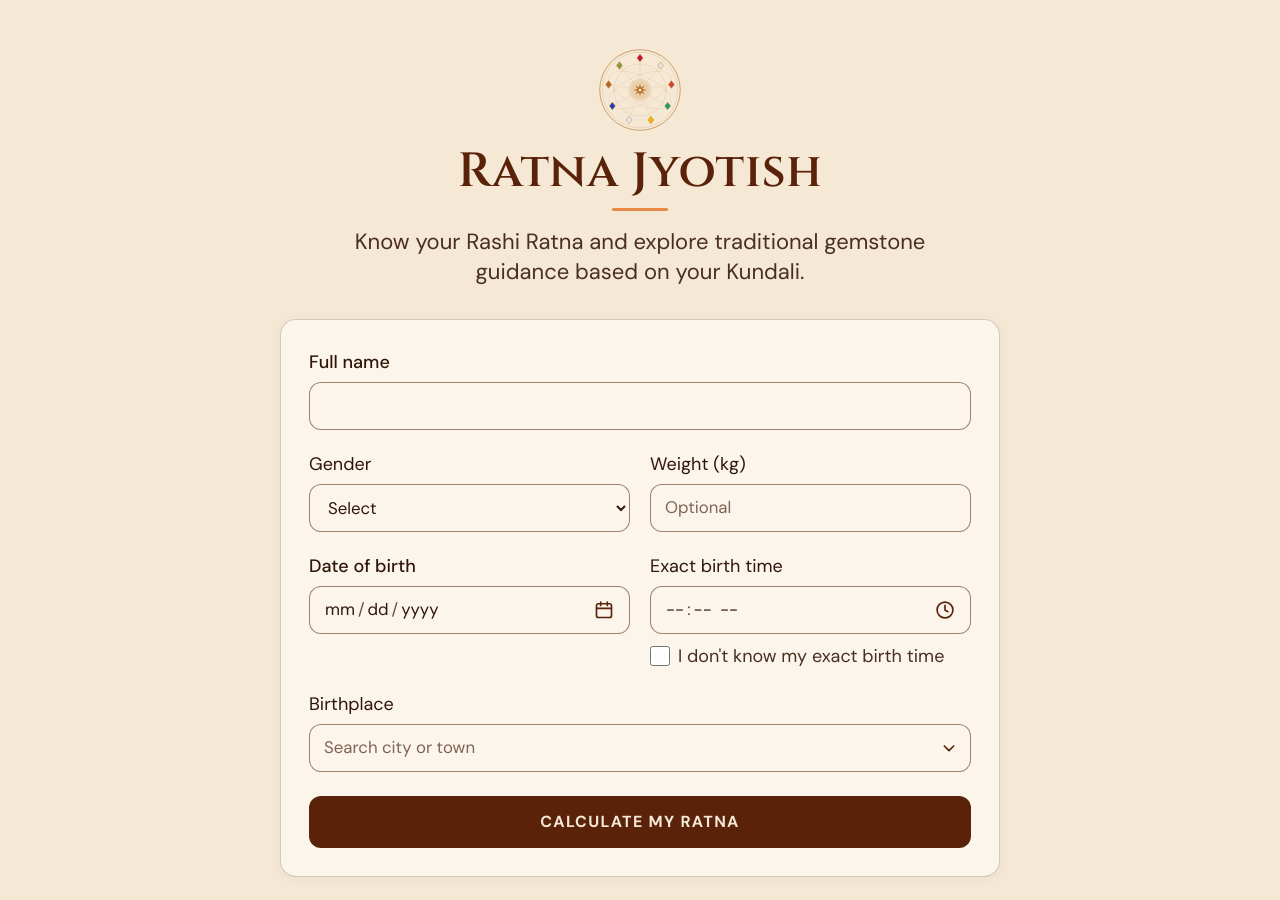
a real feature: Ratna Jyotish › signed out: Generate opens the gate, nothing is sent, every field is kept; after sign-in it runs once
In the field labelled "Full name": (640, 406) [309,382,971,430], type "Asha Verma"
Select "Female" in the dropdown labelled "Gender": (470, 508) [309,484,630,532]
In the number field labelled "Weight (kg)": (810, 508) [650,484,971,532], type "58"
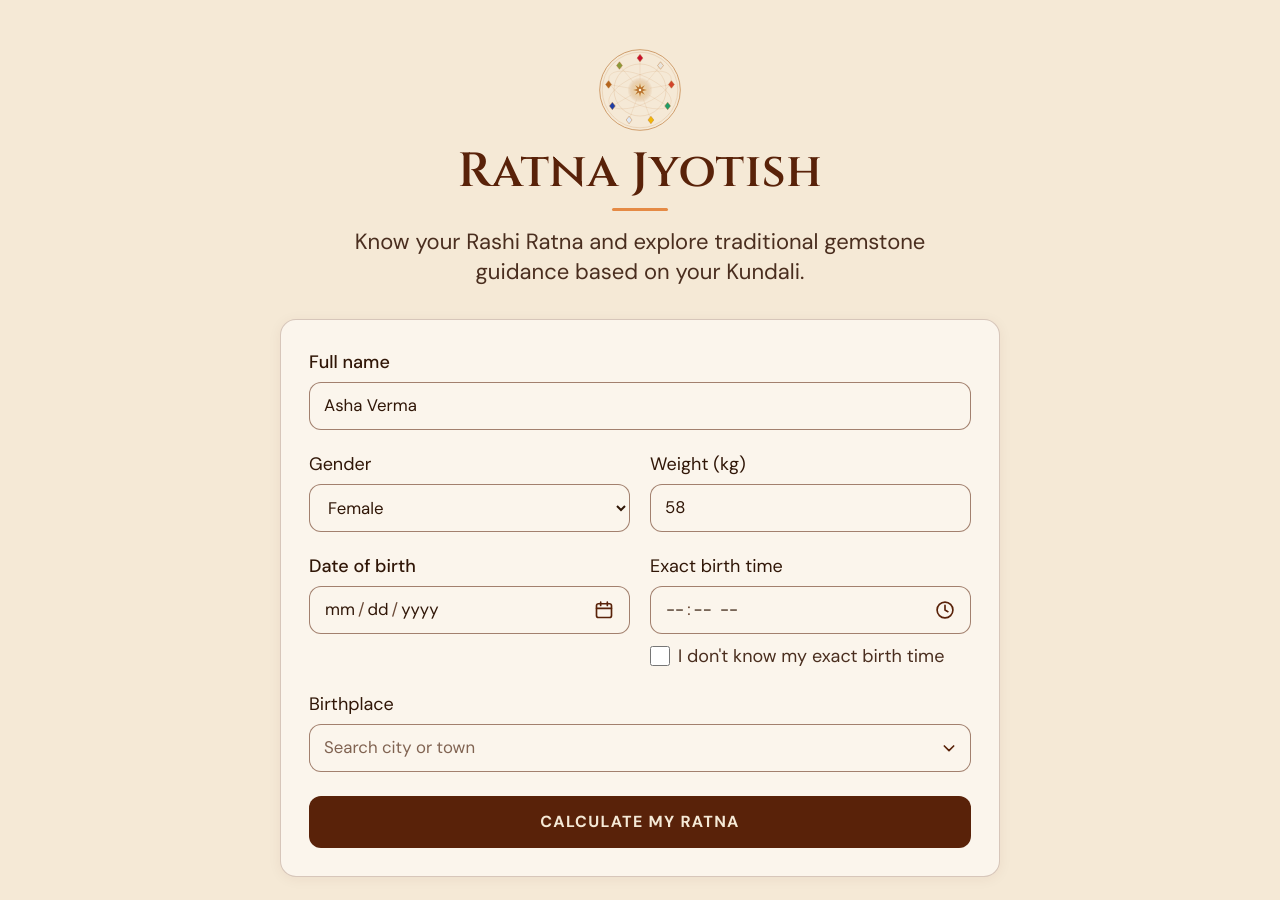
In the date field labelled "Date of birth": (470, 610) [309,586,630,634], type "1990-05-05"
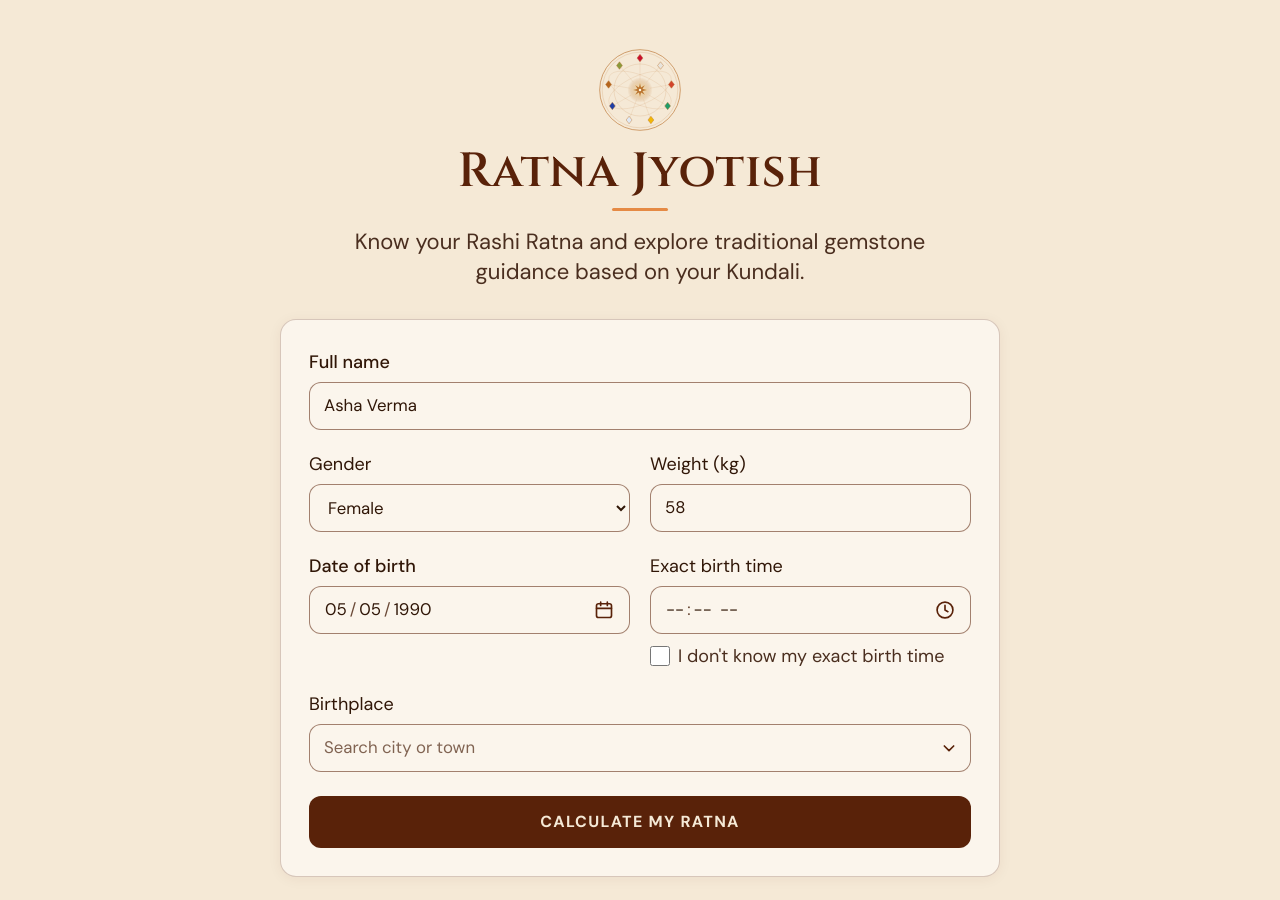
In the time field labelled "Exact birth time": (810, 610) [650,586,971,634], type "10:00"
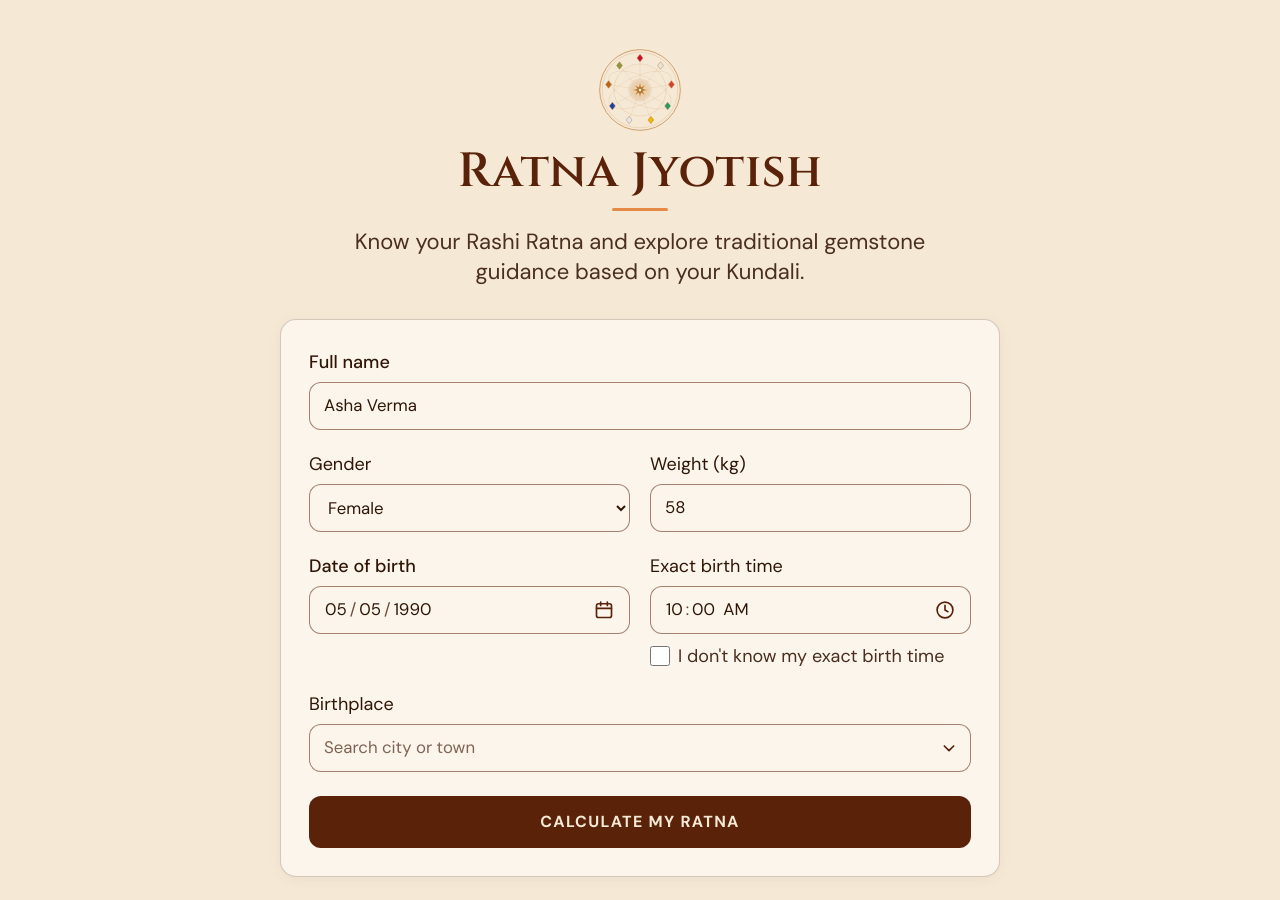
In the dropdown named "Birthplace": (640, 748) [309,724,971,772], type "Delhi"
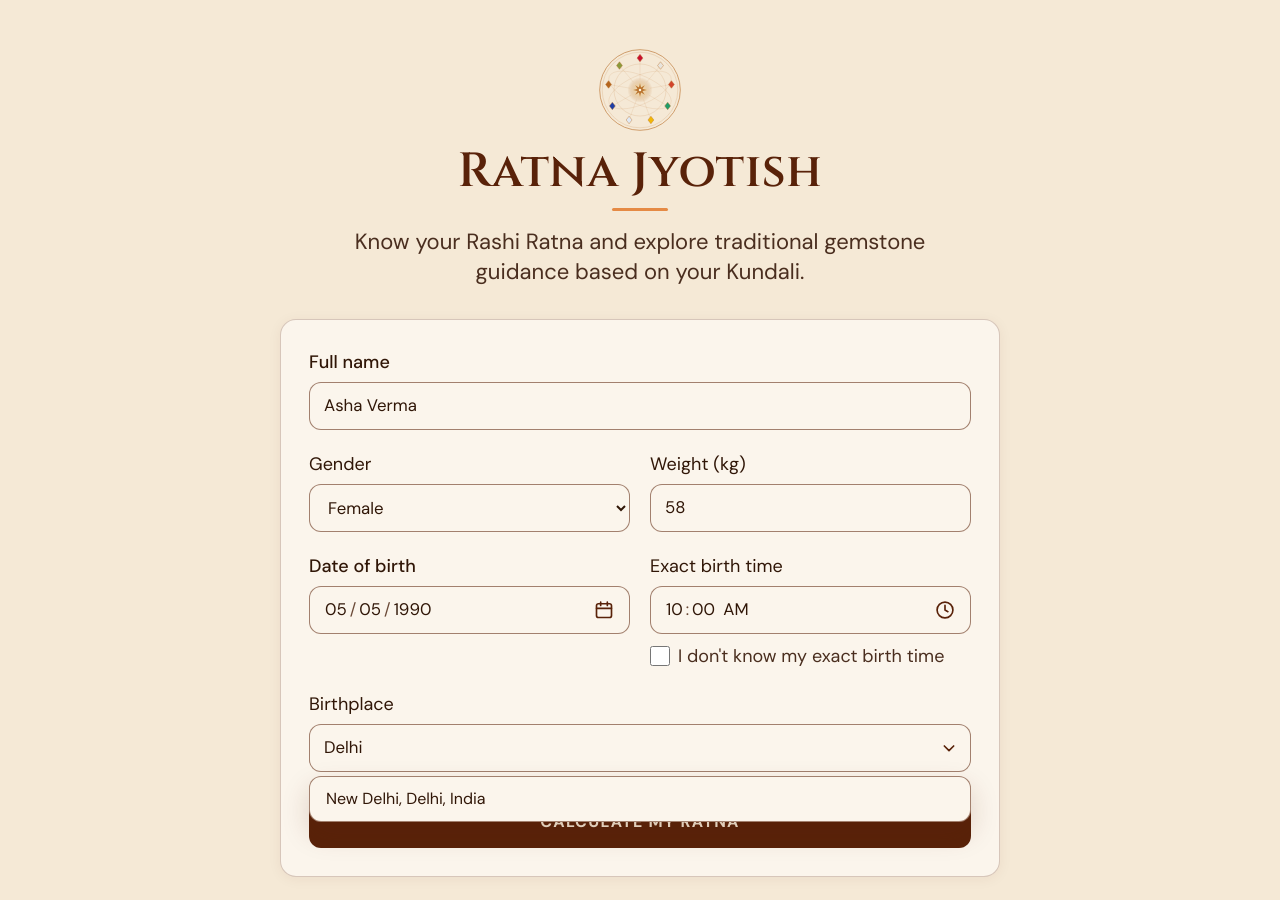
Press the mouse on the option "New Delhi, Delhi, India": (406, 798) [326,788,486,809]
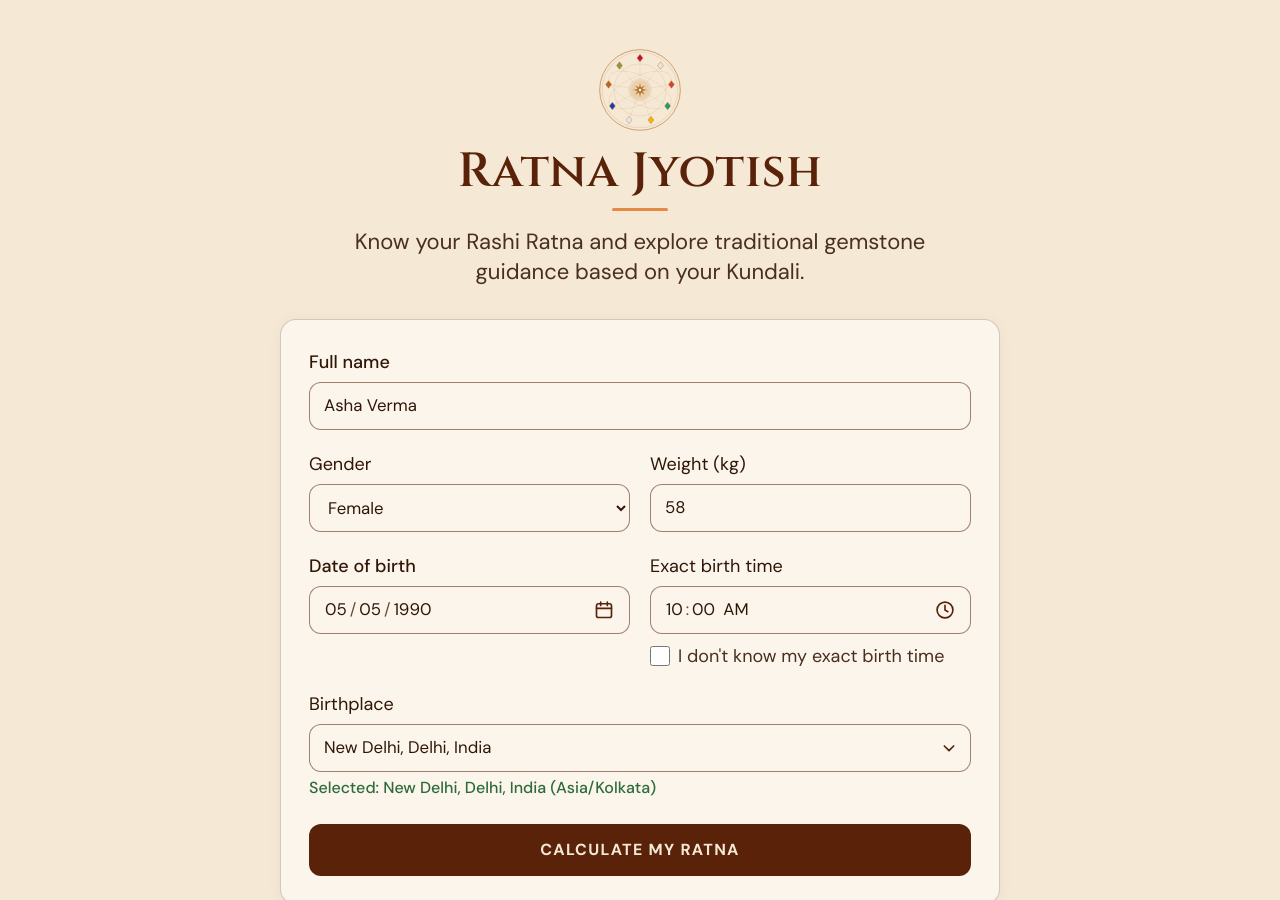
Click the button "CALCULATE MY RATNA": (640, 850) [309,824,971,876]
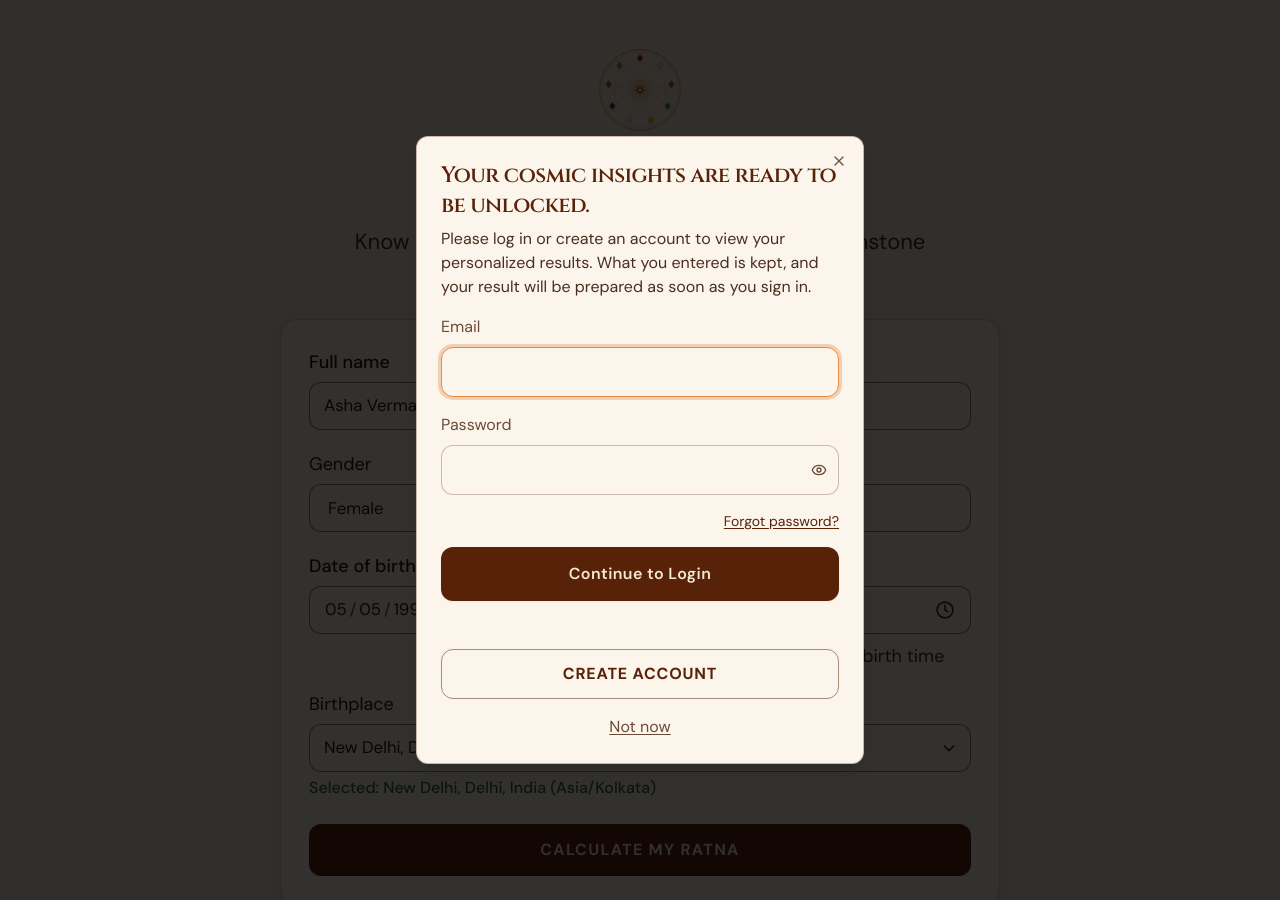
Now the dropdown named "Birthplace" holds "New Delhi, Delhi, India", box [309,724,971,772]
Now the dialog with test id "signin-gate" is shown, box [416,136,864,764]
